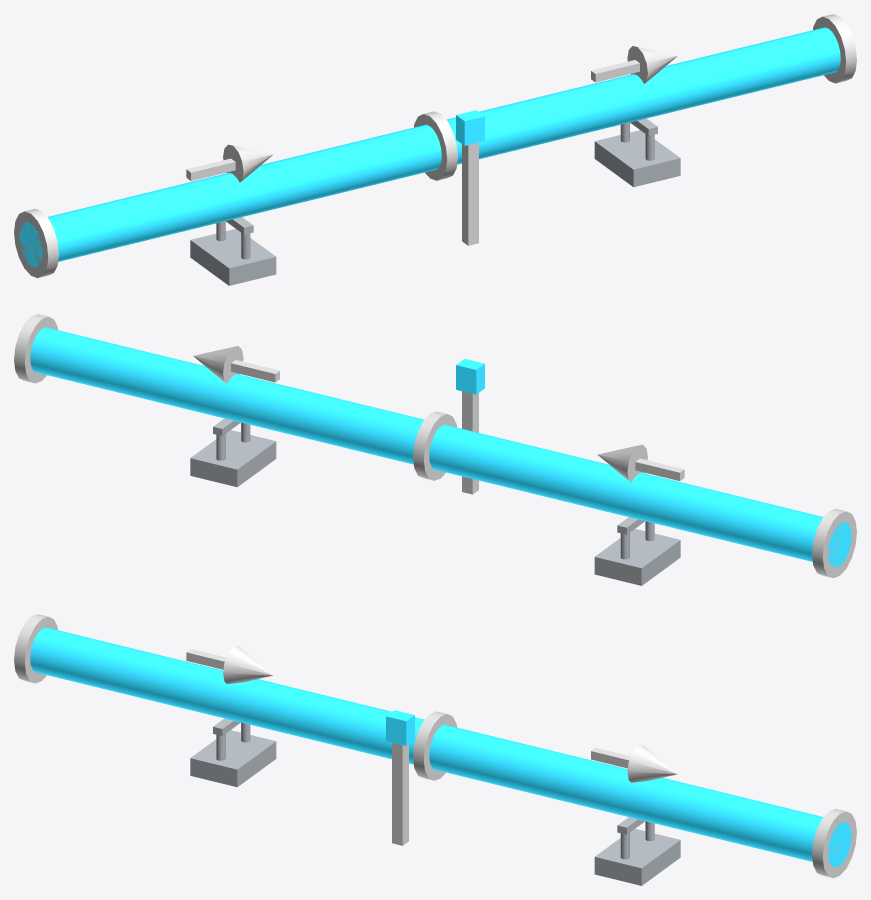
Rendered from Pipeline.glb.
3 views of the same model, one above another, from view 1: azimuth 30°, elevation 25°; view 2: azimuth 150°, elevation 25°; view 3: azimuth 330°, elevation 25° (orthographic).
Visible parts, largest first — view 1: pipe, footing (×2), flange (×3), flow_arrow (×2), marker_post, shaft (×2), marker_cap; view 2: pipe, footing (×2), flange (×3), flow_arrow (×2), shaft (×2), marker_post, marker_cap; view 3: pipe, footing (×2), flange (×3), flow_arrow (×2), marker_post, marker_cap.
Part boxes in pixels (x1,y1,x2,y2): pipe: [19, 27, 840, 267]; footing (×2): [190, 130, 680, 285]; flange (×3): [14, 14, 856, 278]; flow_arrow (×2): [223, 46, 677, 182]; marker_post: [462, 142, 478, 245]; shaft (×2): [186, 60, 639, 180]; marker_cap: [456, 110, 484, 145]; pipe: [30, 327, 851, 567]; footing (×2): [190, 430, 680, 585]; flange (×3): [14, 314, 856, 578]; flow_arrow (×2): [193, 346, 647, 482]; shaft (×2): [231, 360, 684, 480]; marker_post: [462, 391, 478, 494]; marker_cap: [456, 359, 484, 394]; pipe: [30, 627, 851, 867]; footing (×2): [190, 730, 680, 885]; flange (×3): [14, 614, 856, 878]; flow_arrow (×2): [223, 646, 677, 782]; marker_post: [392, 742, 408, 845]; marker_cap: [386, 710, 414, 745].
Size of the model in its own units: 12 by 1.8 by 1.51.
